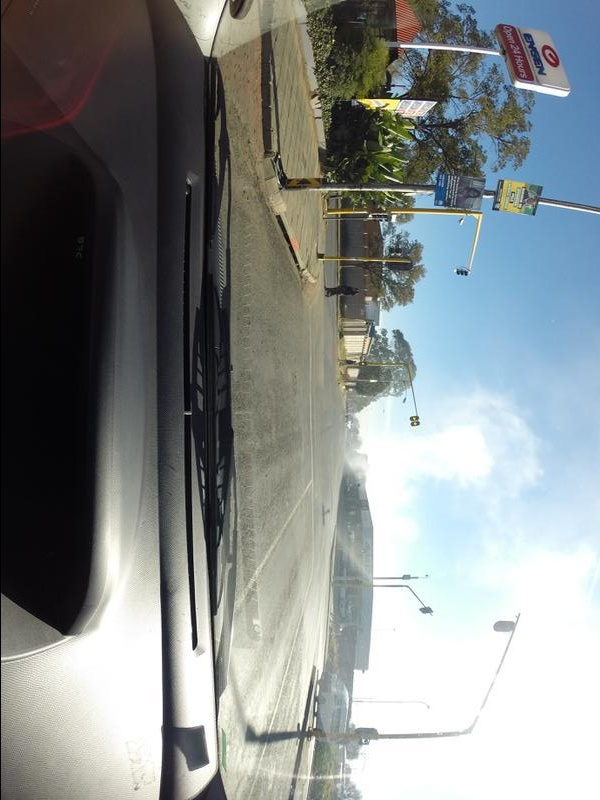pothole: (290, 373, 300, 396)
